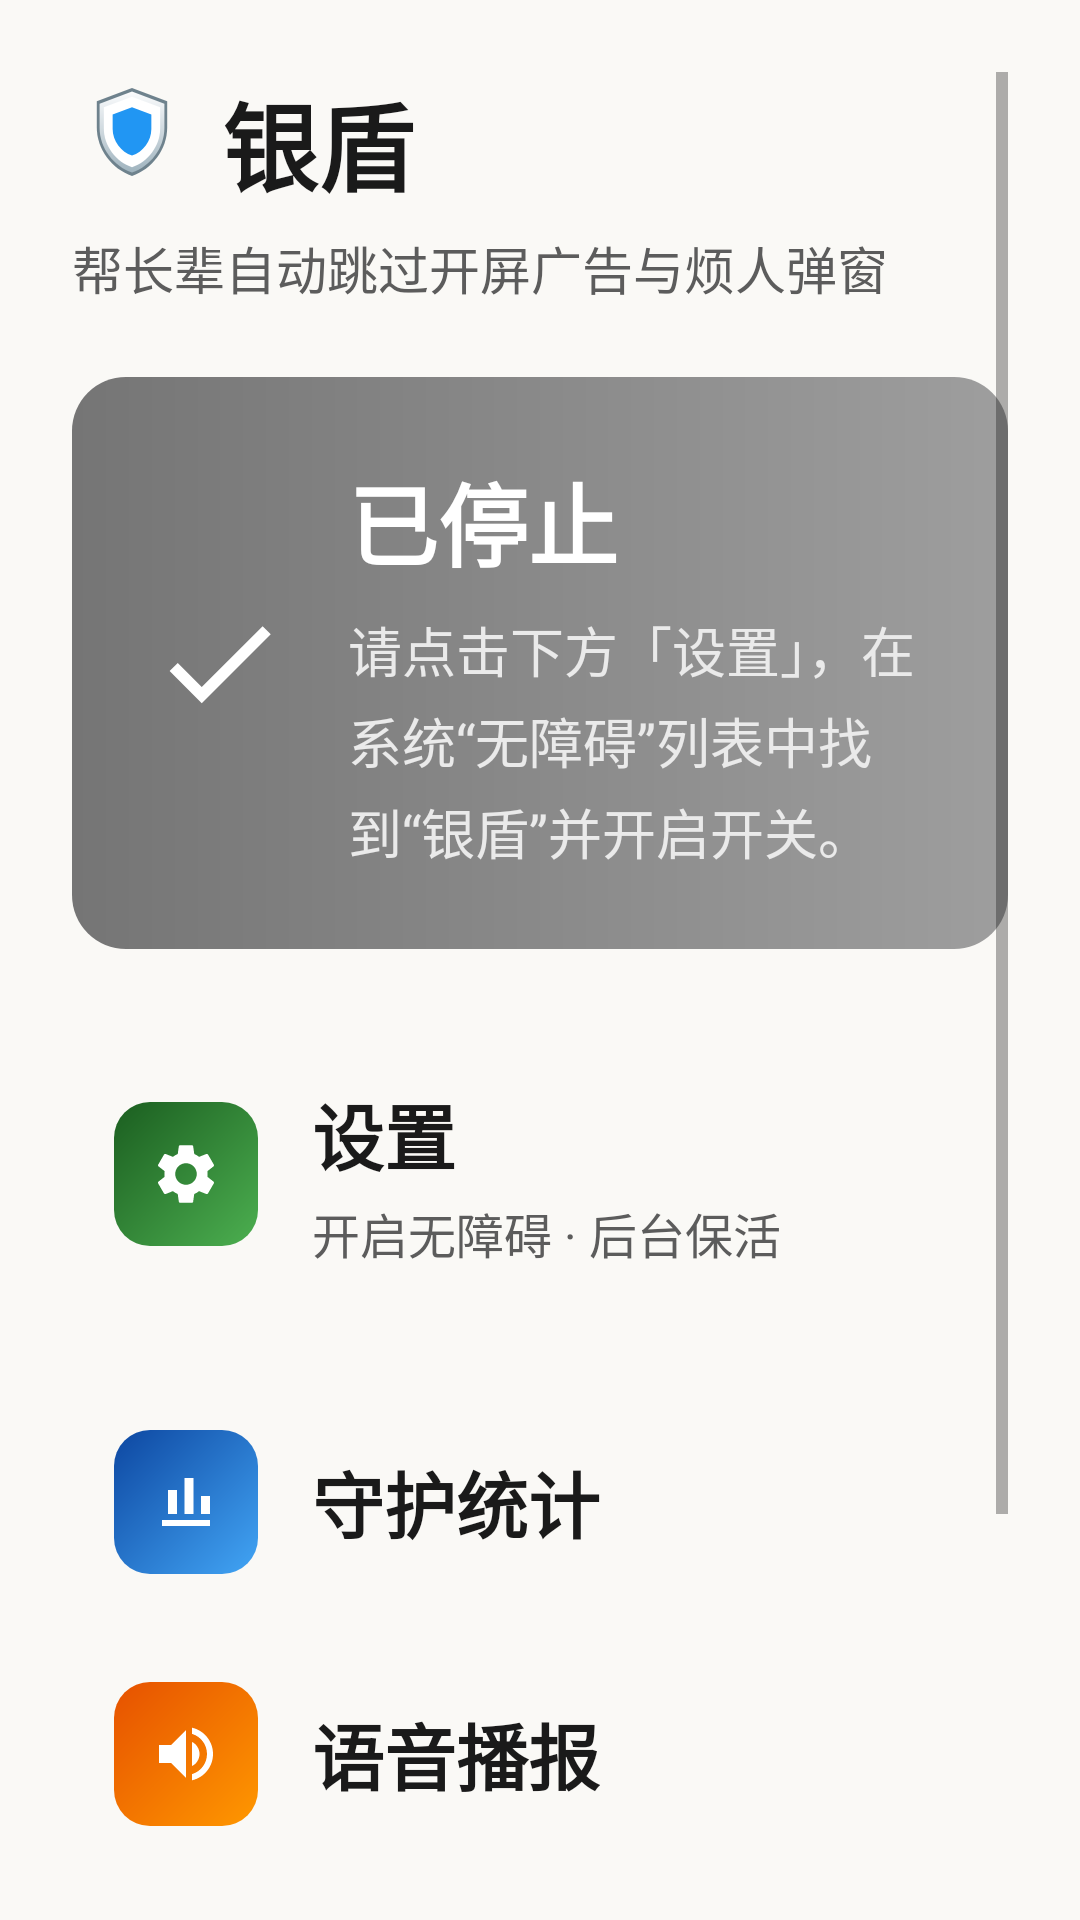

Icon bounding boxes for this 1080x1920 phone screenshot, format (x1, y1, x2, y2):
shield badge: (96, 88, 168, 176)
